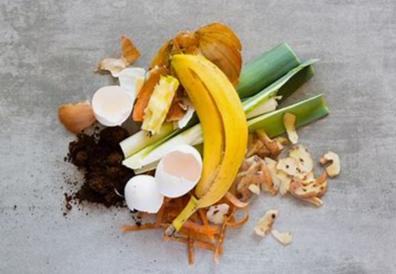organic: (121, 41, 330, 181), (170, 52, 249, 241), (251, 151, 342, 245), (69, 133, 123, 210), (156, 144, 202, 197), (92, 85, 134, 126), (124, 174, 164, 216), (58, 102, 97, 129)
